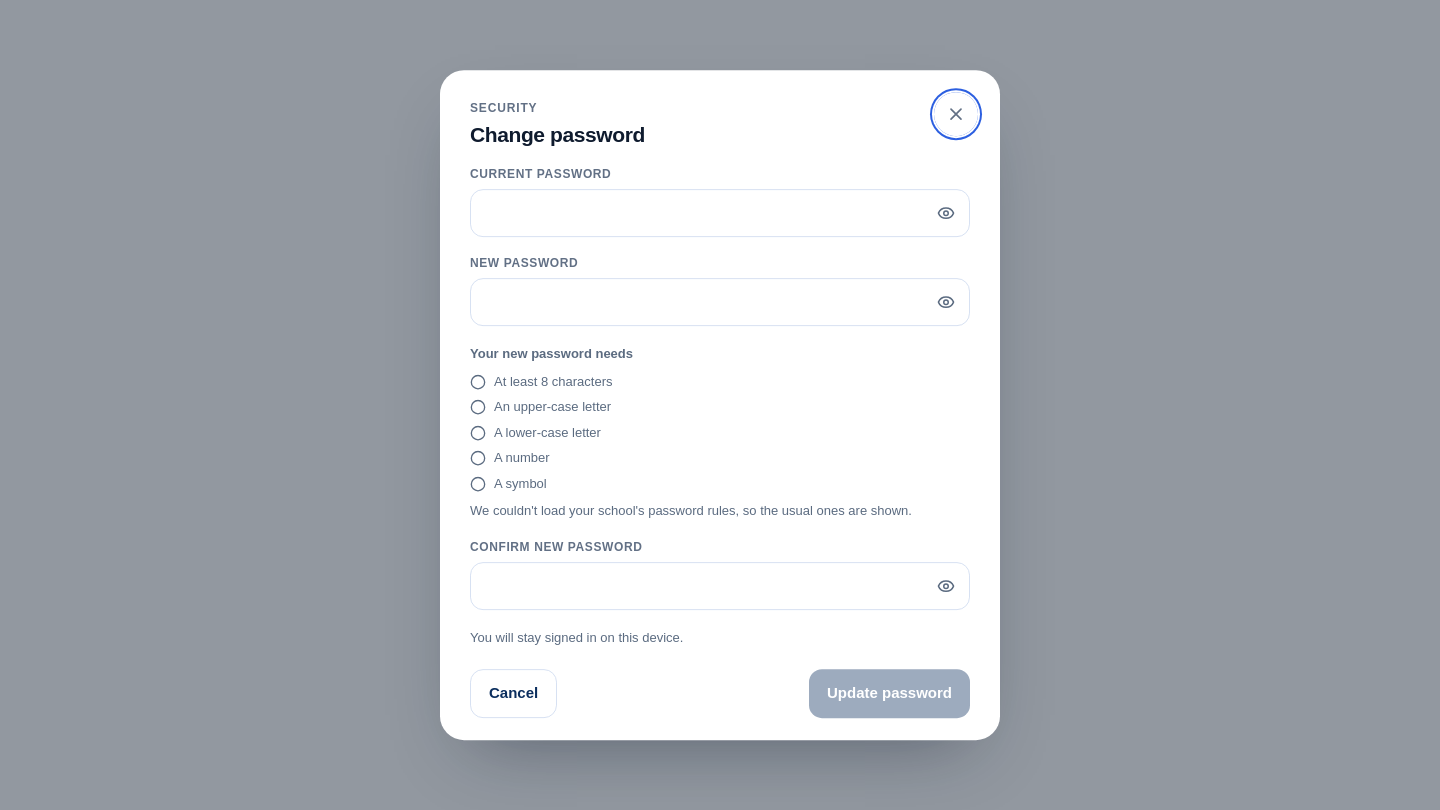
it: Change password sheet › falls back to the built-in rules and shows the server's refusal
The width and height of the screenshot is (1440, 810).
Check: the text "the usual ones are shown" is shown, box [470,503,912,518]
Check: the list item "At least 8 characters" is shown, box [469,374,612,398]
Type "wrong" into the password field labelled "Current password".
click(720, 213); type("wrong")  # box [470,189,970,237]
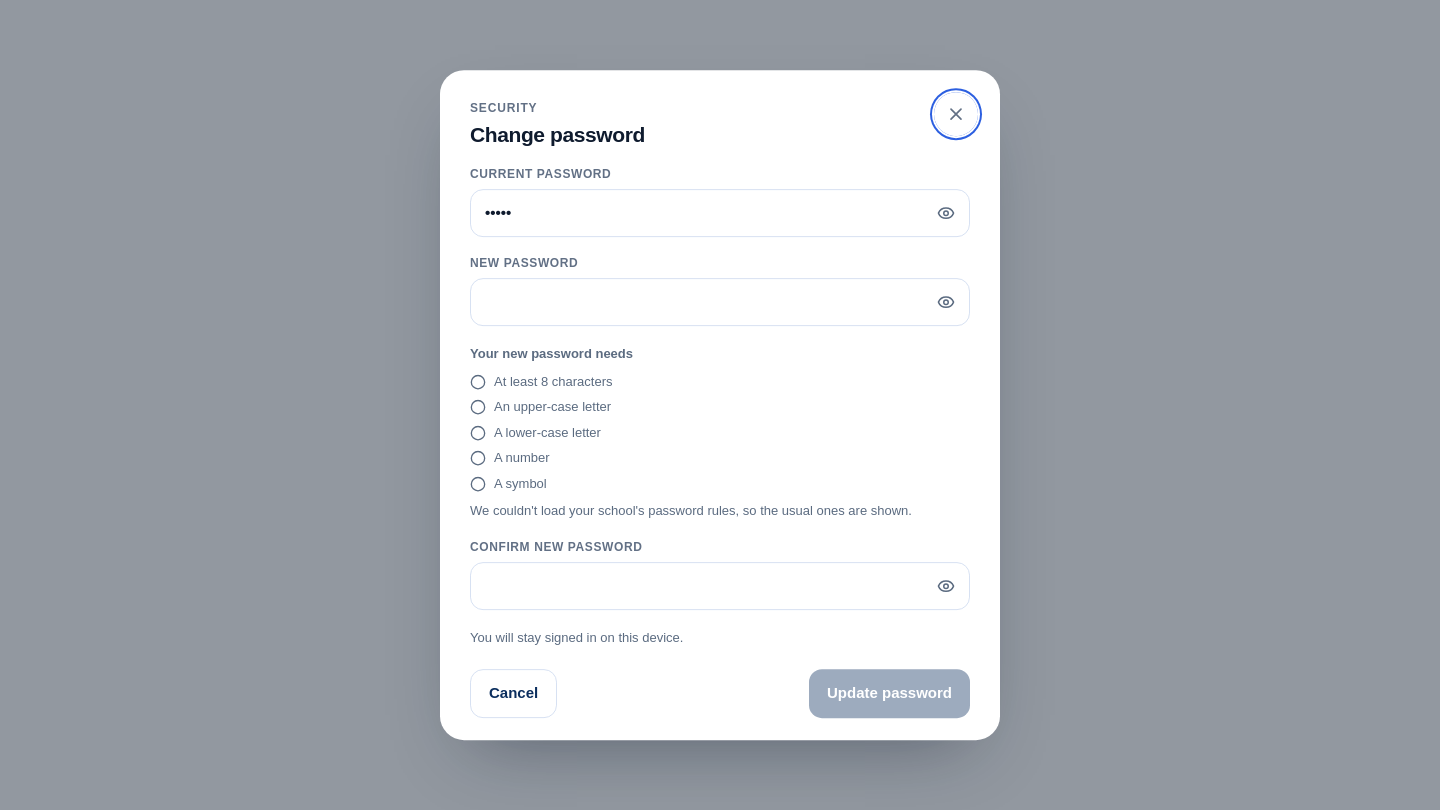
Type "Newpass1!" into the password field labelled "New password".
click(720, 302); type("Newpass1!")  # box [470,278,970,326]
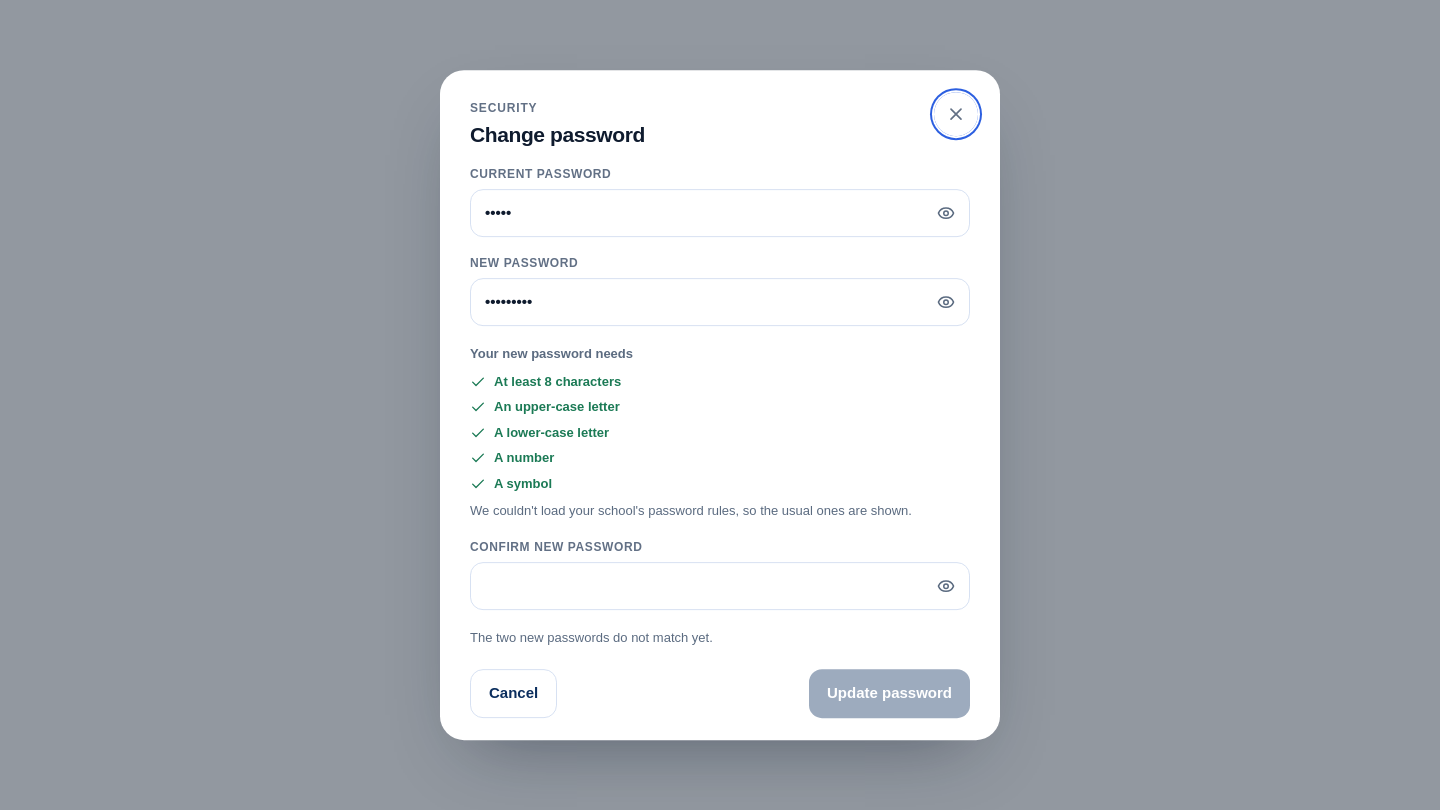
Type "Newpass1!" into the password field labelled "Confirm new password".
click(720, 586); type("Newpass1!")  # box [470,562,970,610]
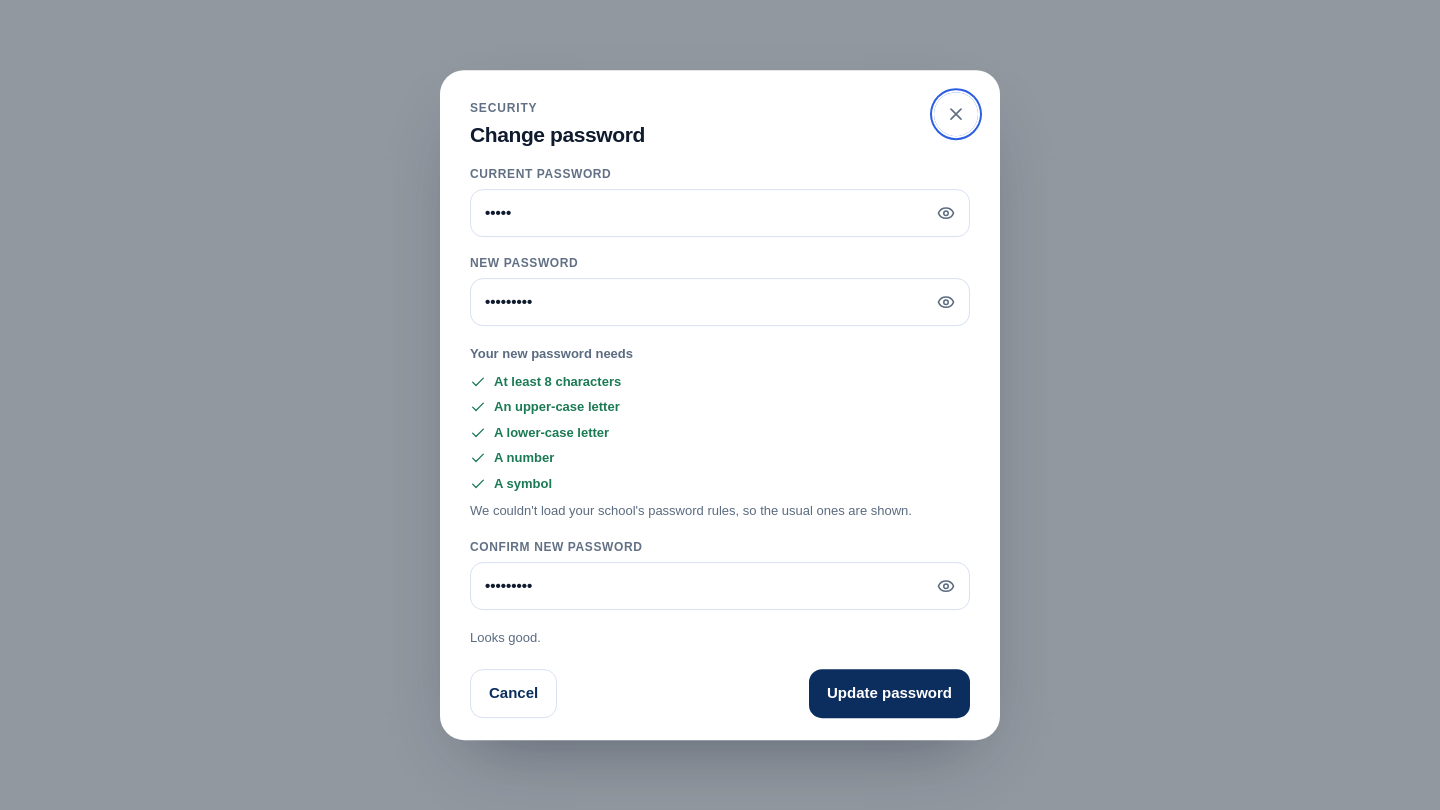
Click the button "Update password".
click(890, 694)  # box [809,669,970,718]
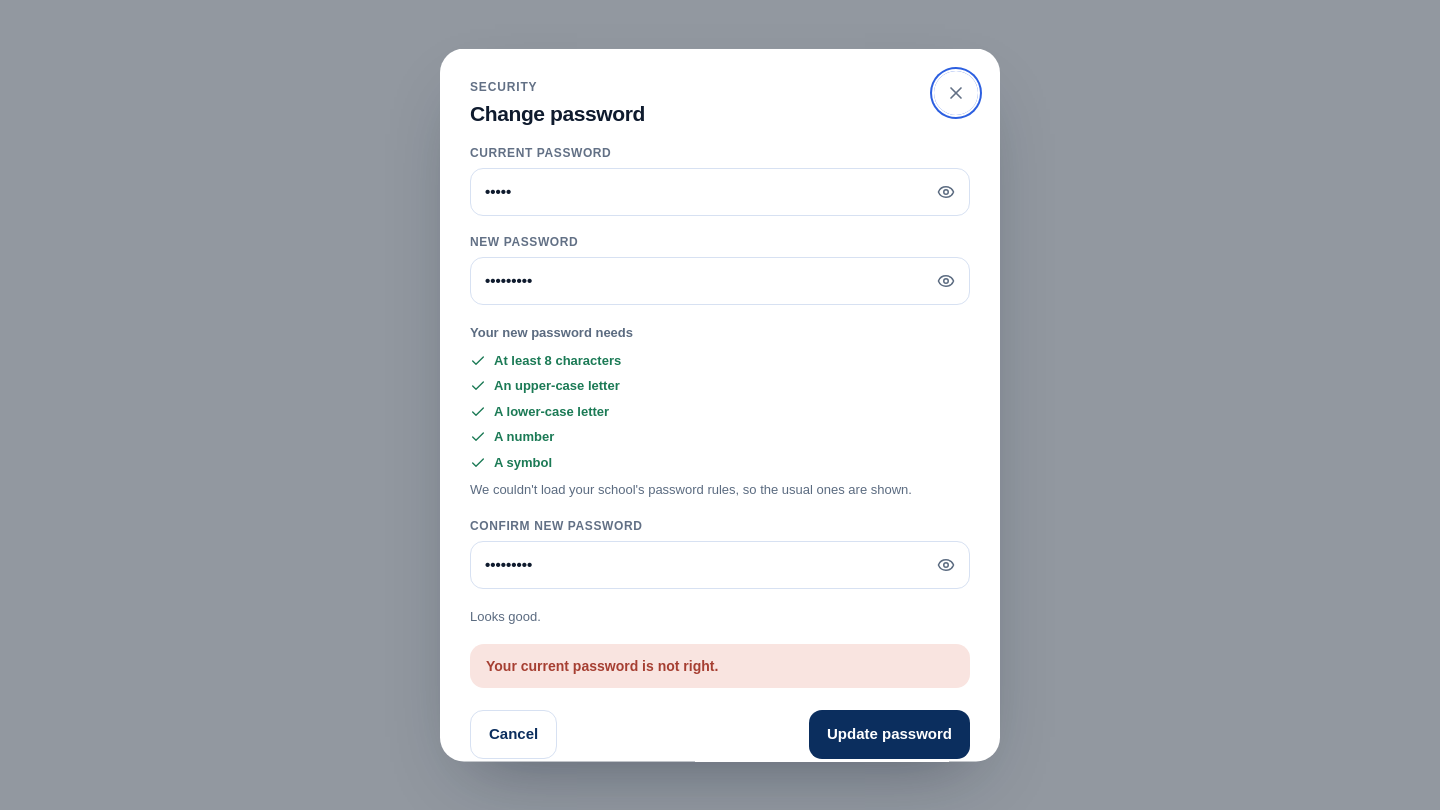
Check: the message reads "Your current password is not right.", box [486,658,718,674]
